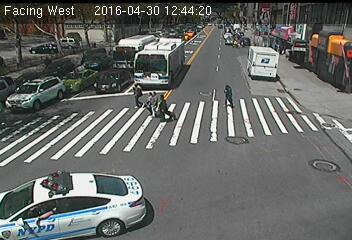neg: (324, 124, 345, 151), (323, 74, 343, 100), (281, 120, 300, 145), (34, 8, 53, 32), (19, 36, 37, 61), (177, 164, 195, 188), (49, 77, 66, 99), (16, 88, 32, 110), (77, 57, 93, 78), (37, 199, 52, 219), (102, 132, 117, 152), (324, 162, 339, 182), (251, 59, 266, 78), (82, 180, 96, 198), (273, 41, 286, 58), (112, 37, 125, 54), (216, 15, 228, 32), (159, 10, 171, 27), (49, 120, 61, 137), (227, 131, 239, 147), (132, 151, 143, 166), (217, 61, 224, 70), (153, 38, 158, 45), (309, 49, 314, 55)
pos: (151, 93, 175, 124), (123, 79, 146, 109), (216, 80, 238, 110), (144, 87, 162, 111), (143, 90, 157, 107)
